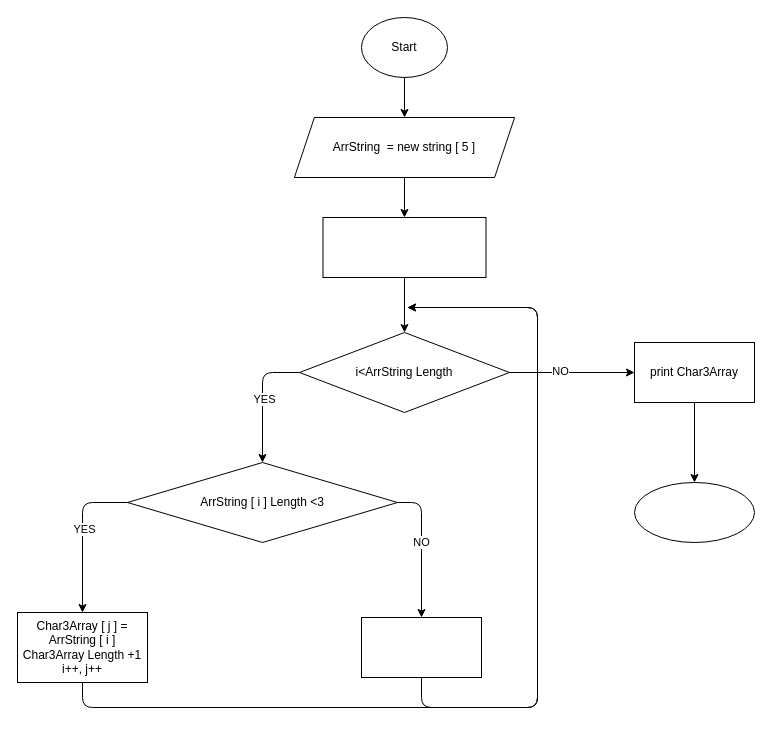
This 772x733 diagram has some shape labels left out. Each missing label, with the centre of its shape:
Finish: the point at 694,512
i++: the point at 421,647
new Char3Array[1] i =0, j=0: the point at 404,247
